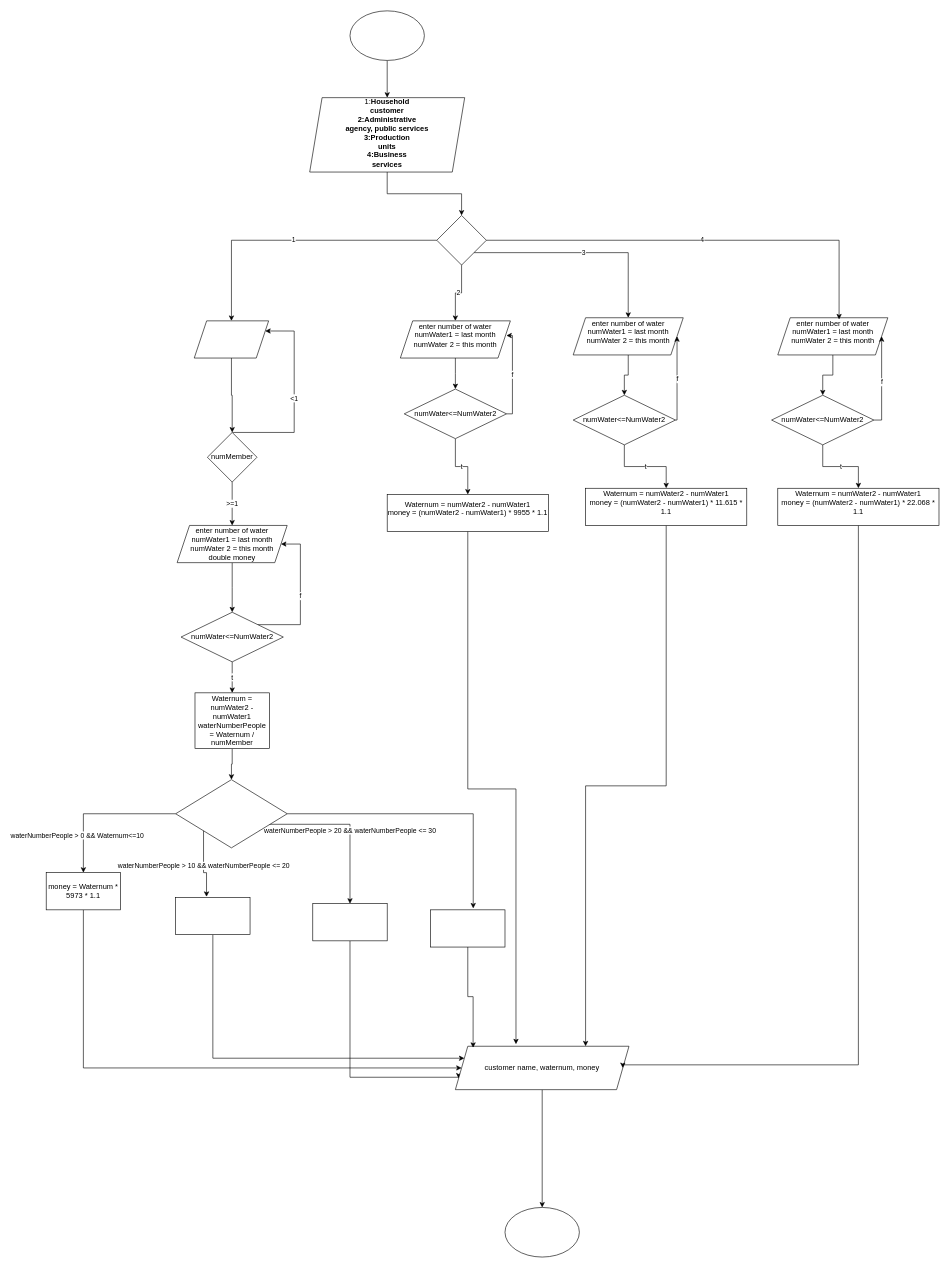
Some shapes in this 950 by 1268 pixel diagram are drawn without their labels. The centre of each missing label's shape, as x and y in pixels:
"end" goes at [541,1232].
"enter number of people int numMember" goes at [231,339].
"input" goes at [461,240].
"money = Waternum * 15929 * 1.1" goes at [467,928].
"money = Waternum * 7051 * 1.1" goes at [212,916].
"money = Waternum * 8699 * 1.1" goes at [349,922].
"start" goes at [386,35].
"waterNumberPeople , Waternum" goes at [231,813].
